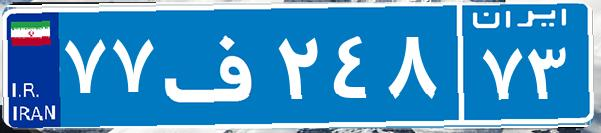2: (273, 28, 330, 110)
3: (525, 38, 570, 115)
4: (330, 28, 385, 110)
7: (57, 26, 110, 107), (475, 38, 525, 113), (110, 28, 158, 105)
8: (385, 28, 445, 110)
ف: (158, 15, 273, 115)
